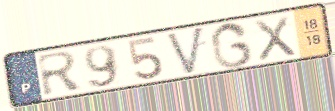5: (126, 34, 165, 82)
9: (84, 43, 122, 89)
G: (208, 20, 255, 69)
R: (34, 49, 86, 98)
V: (164, 24, 207, 77)
X: (251, 14, 299, 64)
